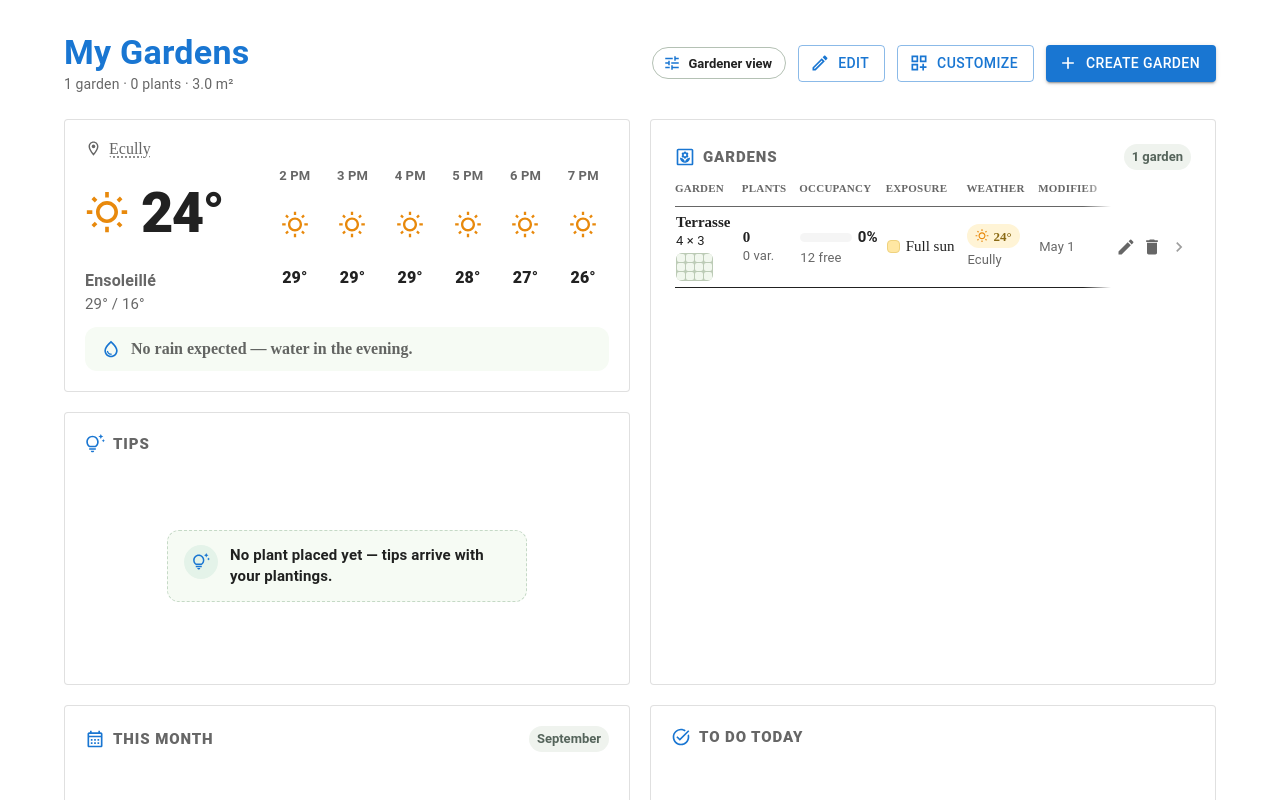
Test case: GardensDashboard — Edit mode chrome (SMA-336) › after « Remove » SUCCEEDED, a failed re-read never names the old place nor offers « Remove » again (round 4, F1)
This screenshot has width=1280, height=800.
Click the button "Edit" at (842, 63), box [798, 45, 885, 82]
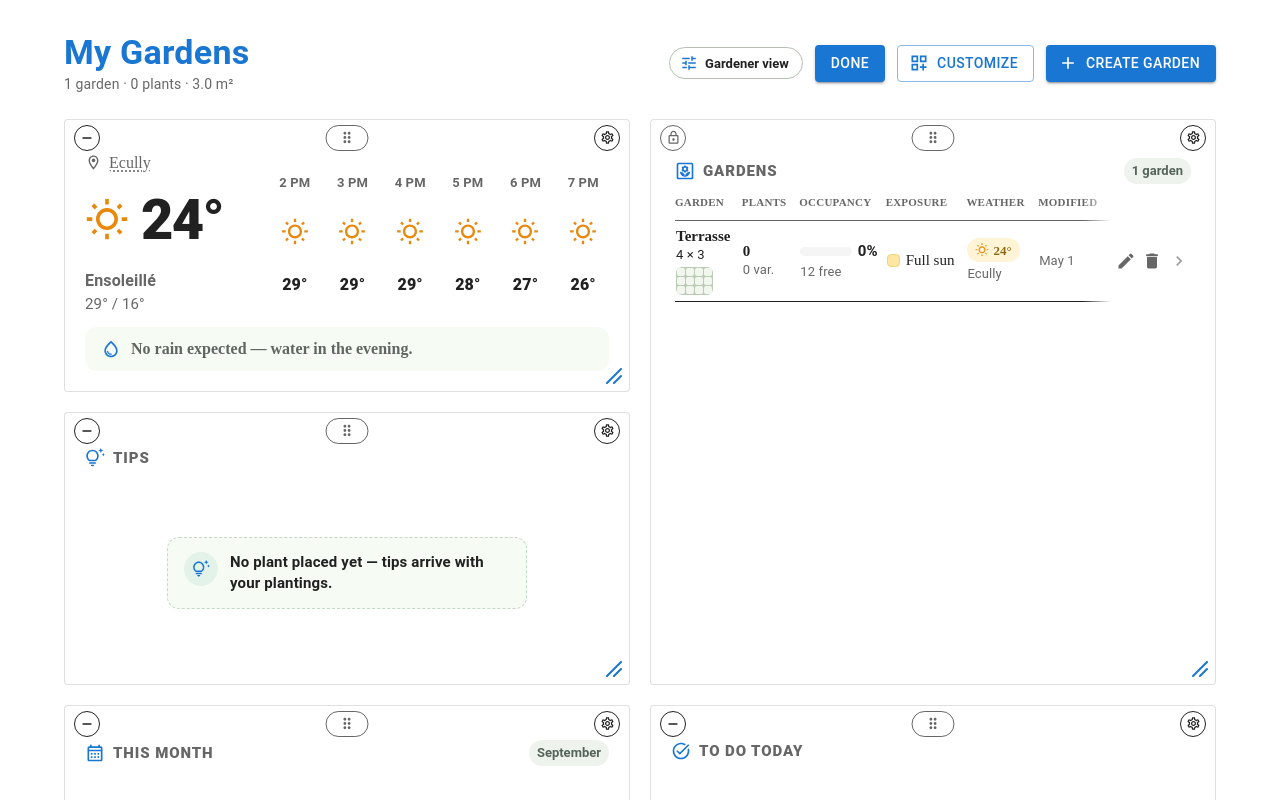
Click the button named "Weather options" at (607, 138), box [594, 125, 620, 151]
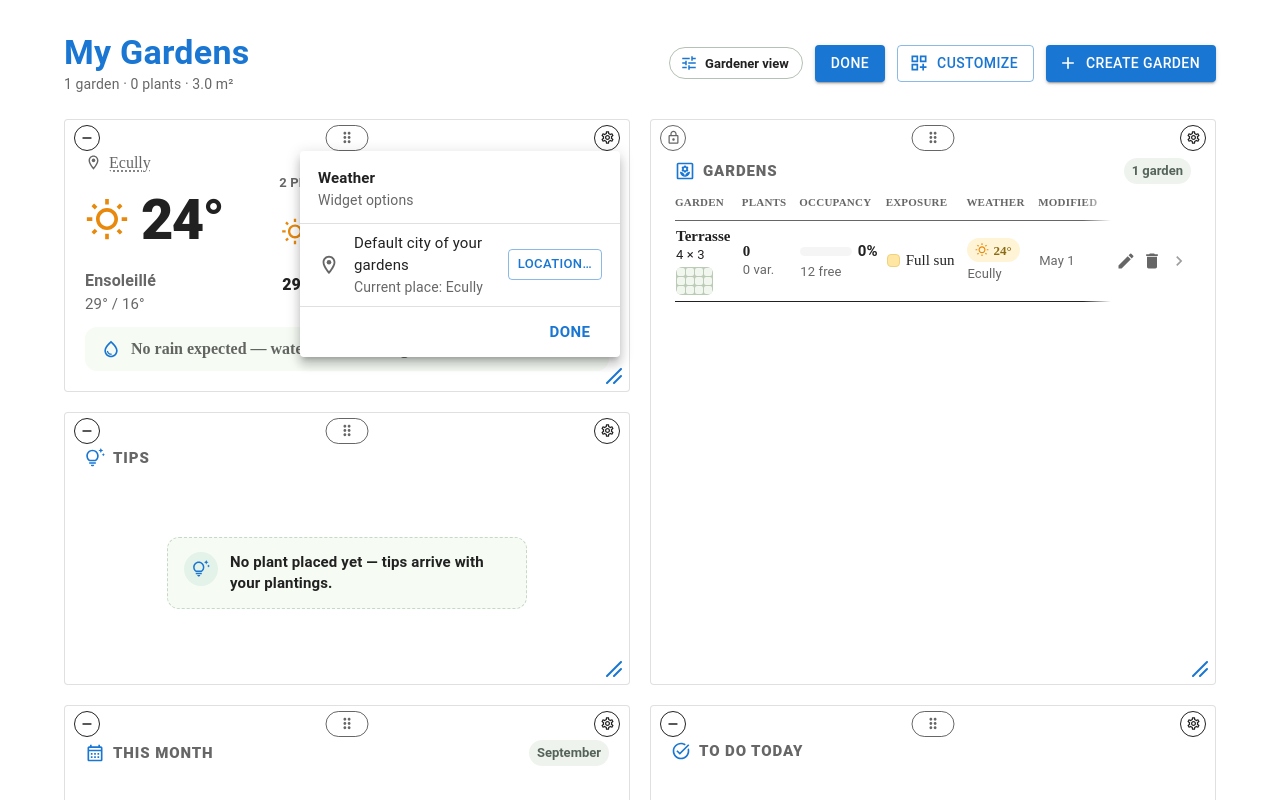
expect the text "Current place: Ecully" is shown: met, box [354, 276, 494, 298]
Click the button "Location…" at (555, 264), box [508, 249, 602, 280]
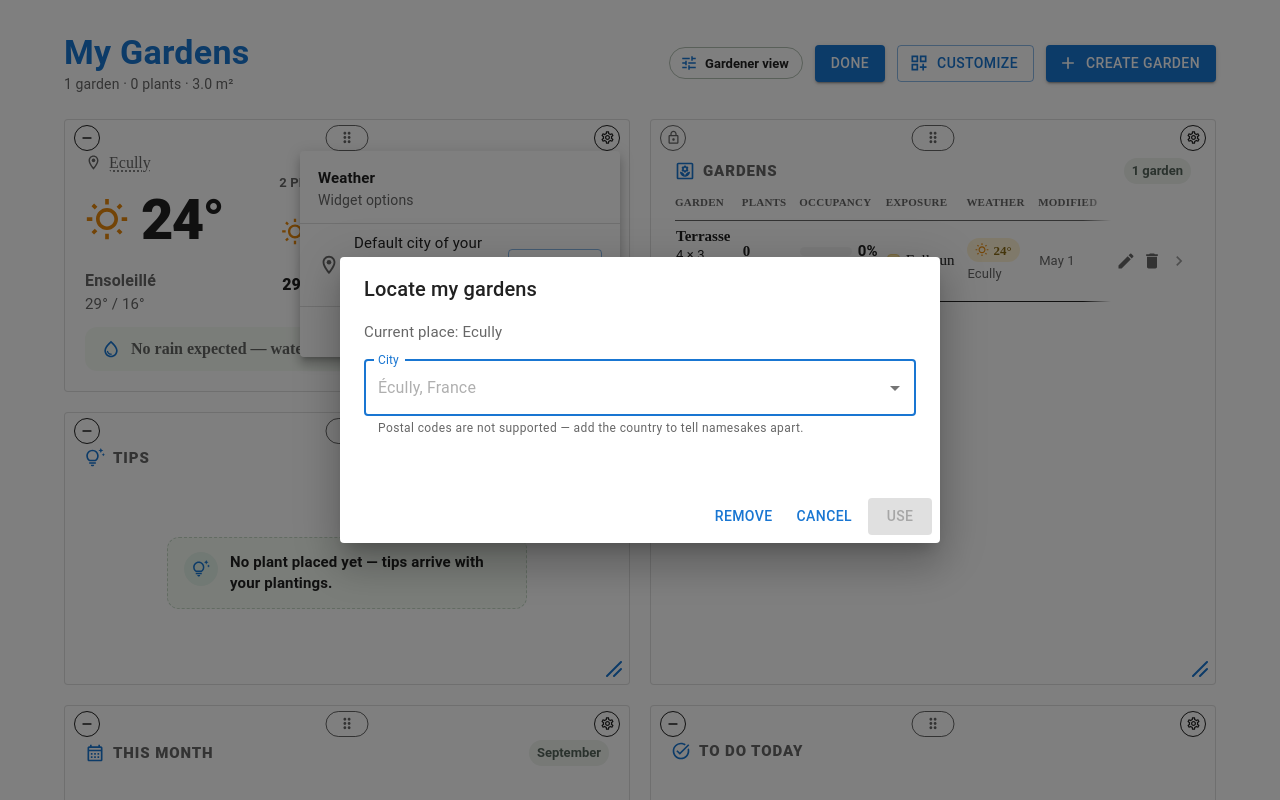
Click the button "Remove" at (744, 517), box [707, 498, 780, 535]
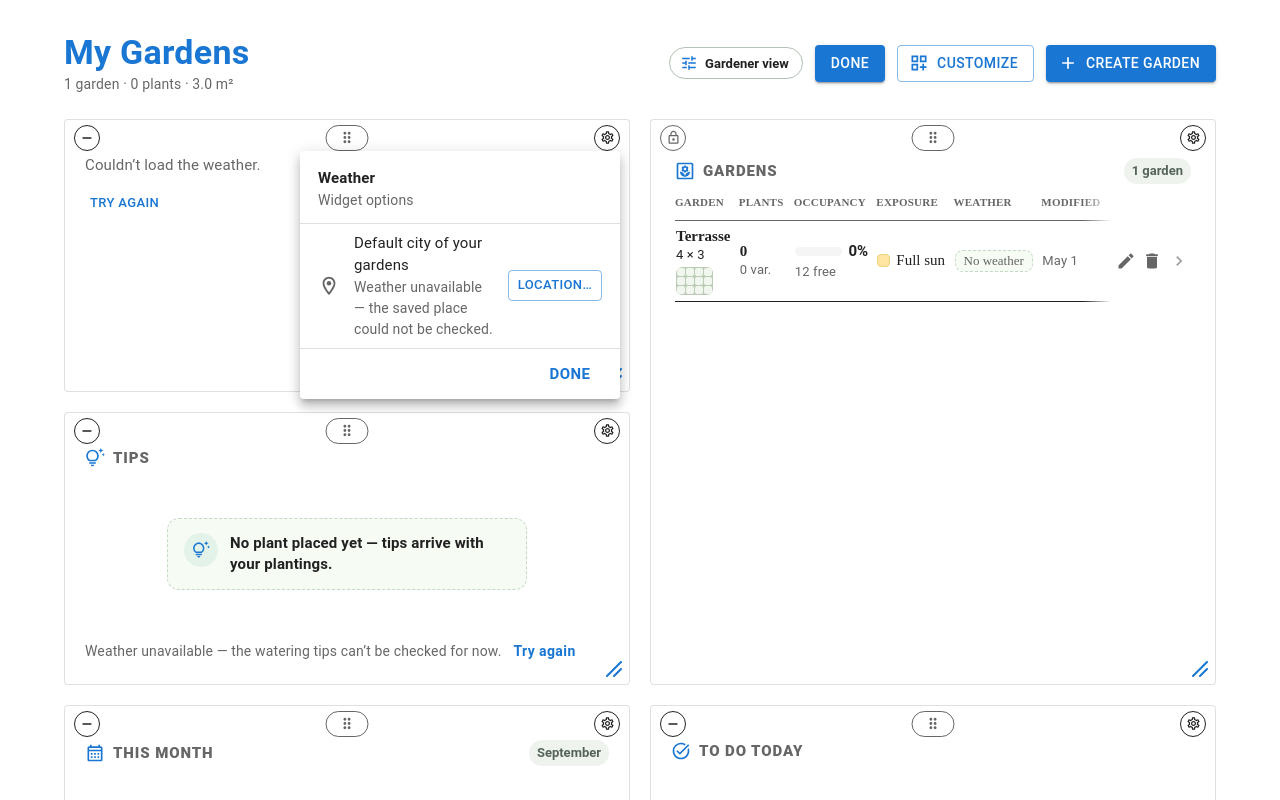
expect the text "Current place: Ecully" is gone: met
expect the text "Weather unavailable — the saved place could not be checked." is shown: met, box [354, 276, 494, 340]
Click the button "Location…" at (555, 286), box [508, 270, 602, 301]
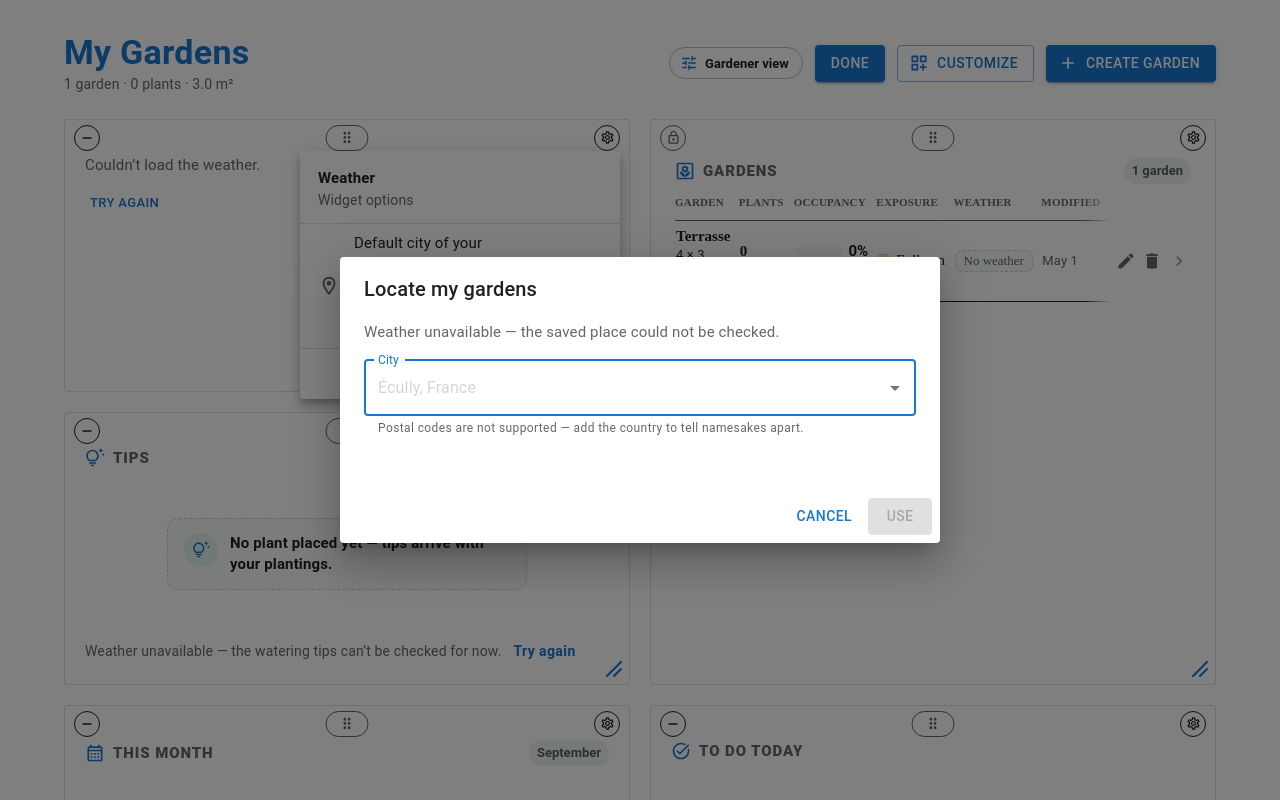
expect the text "Current place: Ecully" is not shown: met
expect the text "Weather unavailable — the saved place could not be checked." is shown: met, box [364, 323, 780, 341]
